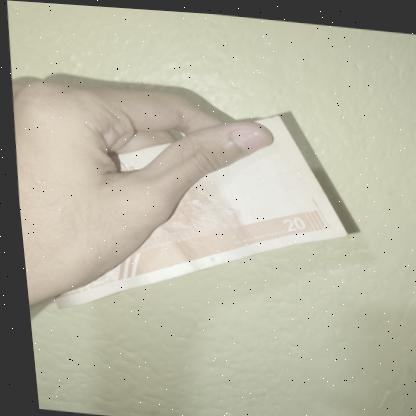vef_back: (30, 89, 355, 335)
